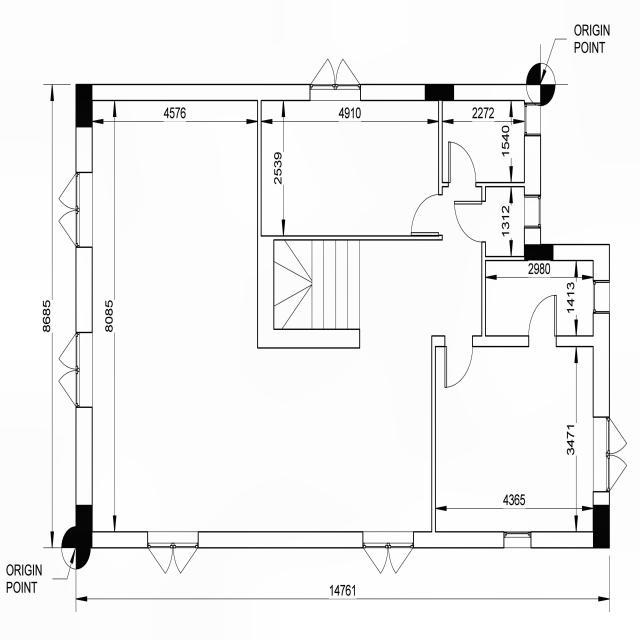Column: (590, 504, 612, 550), (75, 82, 93, 126), (75, 504, 93, 548), (424, 81, 454, 102), (524, 244, 556, 262)
Door: (520, 291, 561, 342), (440, 340, 476, 392), (452, 196, 486, 248), (446, 139, 482, 188), (406, 193, 444, 234)
Staircase: (255, 230, 362, 350)
Window: (588, 410, 630, 496), (56, 163, 94, 250), (56, 329, 94, 412), (358, 530, 420, 578), (144, 528, 201, 580), (308, 54, 362, 104), (493, 528, 537, 556), (592, 275, 614, 317), (525, 190, 543, 230), (524, 99, 542, 138)
